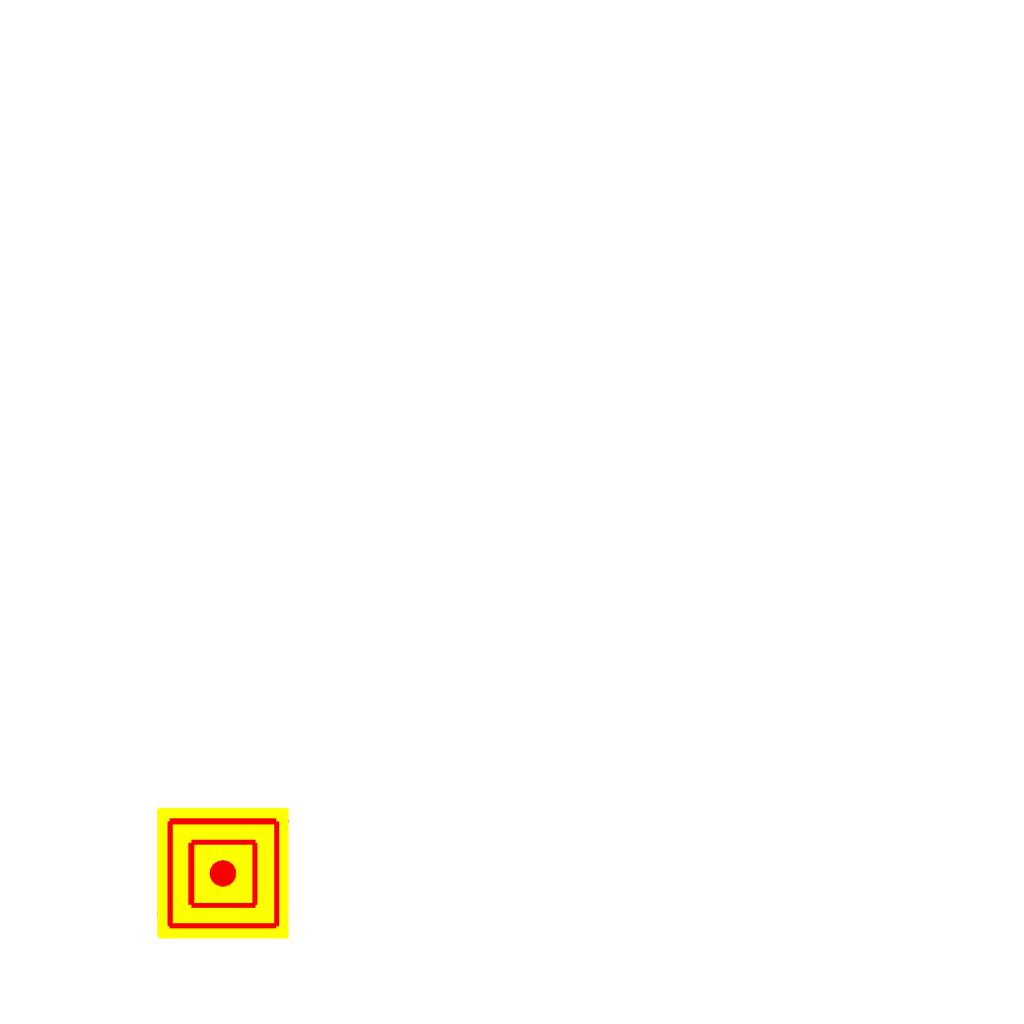NAM-Nichtautomatischer_Melder: (157, 807, 289, 939)
